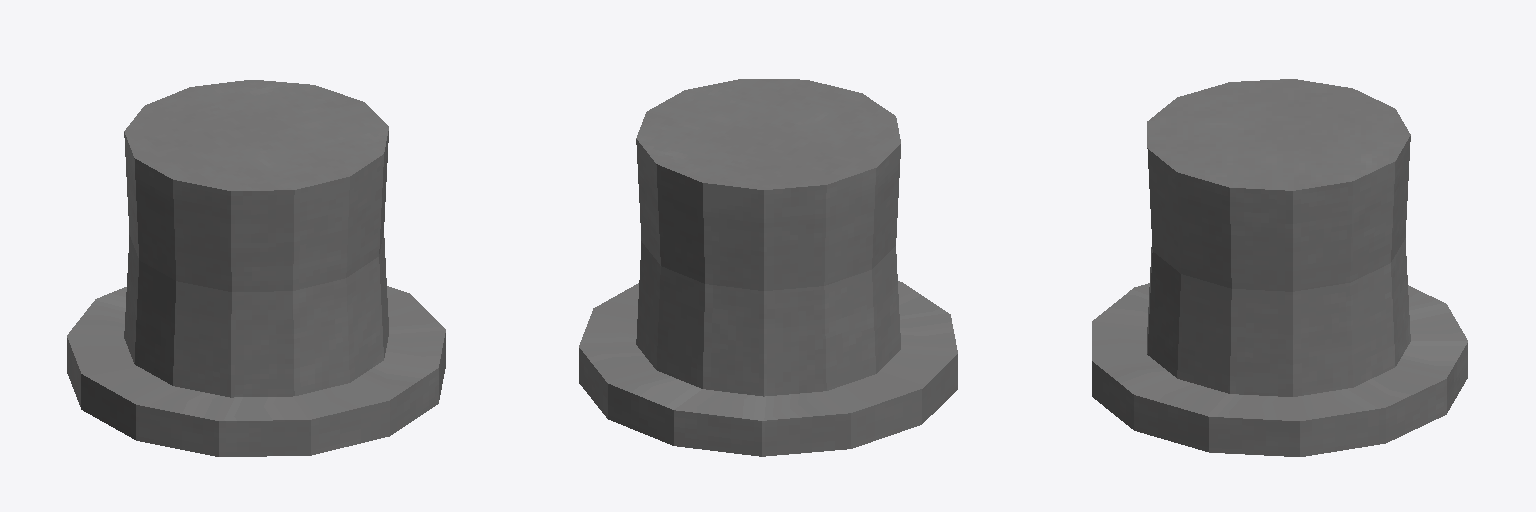
3 renders of one model, left to right at view 1: azimuth 30°, elevation 25°; view 2: azimuth 150°, elevation 25°; view 3: azimuth 270°, elevation 25°, orthographic.
Parts seen in each view (by area): view 1: Zylinder; view 2: Zylinder; view 3: Zylinder.
Part boxes in pixels (x1,y1,x2,y2): Zylinder: (67,80,445,456); Zylinder: (579,79,957,456); Zylinder: (1092,79,1467,456).
Size of the model in its own units: 2.84 by 2 by 2.82.
1 materials, 1 textured.